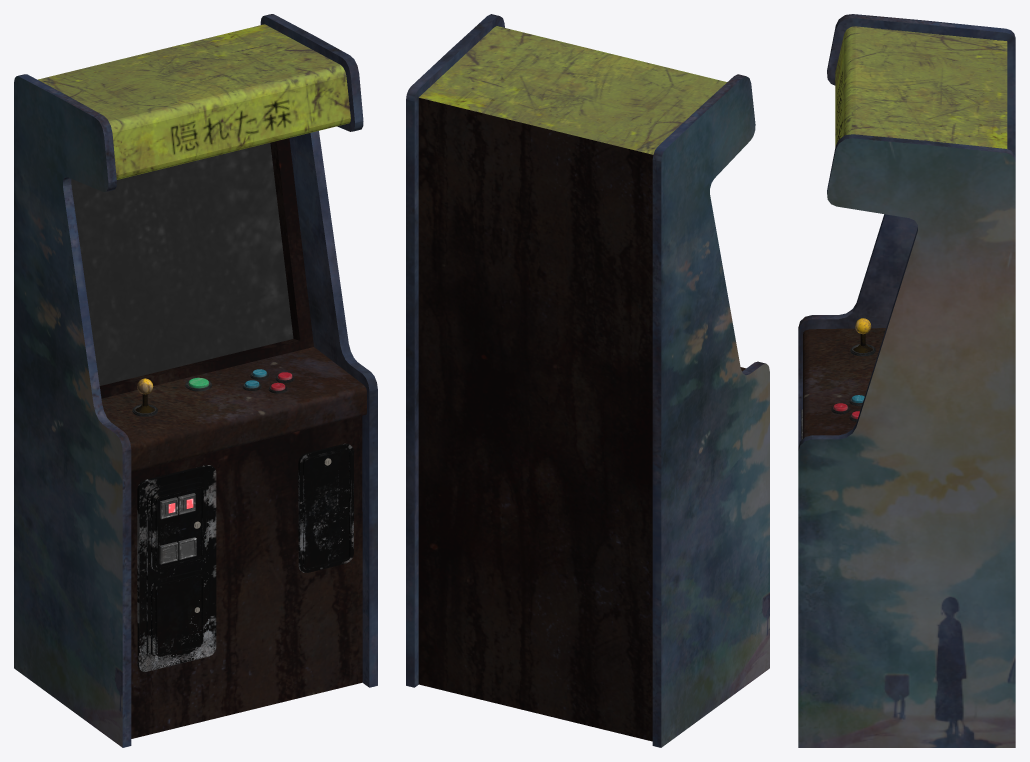
Rendered from Arcade.fbx.
3 views of the same model, side by side, from view 1: azimuth 30°, elevation 25°; view 2: azimuth 150°, elevation 25°; view 3: azimuth 270°, elevation 25° (orthographic).
Parts seen in each view (by area): view 1: Arcade; view 2: Arcade; view 3: Arcade.
Boxes of the visible parts, box(x1,y1,x2,y2) form: Arcade: box(14, 14, 377, 747); Arcade: box(406, 14, 769, 747); Arcade: box(798, 14, 1015, 747).
Bounding box in the file's own units: 271 × 619 × 200.
Materials: 2 (1 with a texture image).
